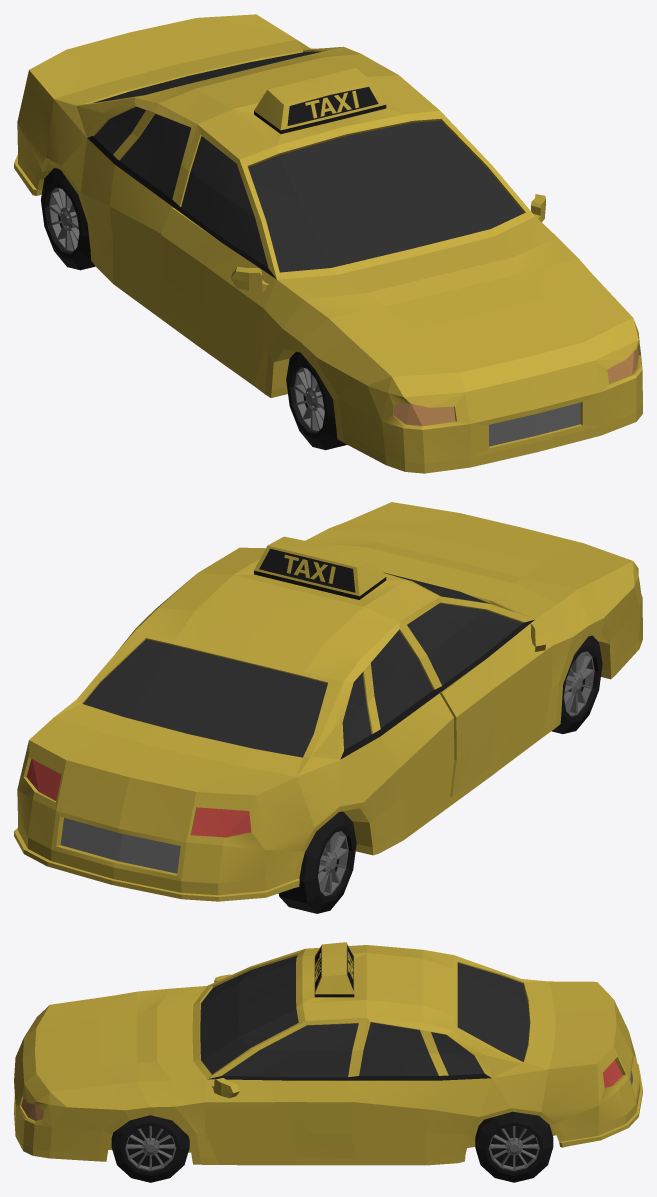
Rendered from Taxi.glb.
3 renders of one model, top to bottom at view 1: azimuth 30°, elevation 25°; view 2: azimuth 150°, elevation 25°; view 3: azimuth 270°, elevation 25°, orthographic. The views are drawn at different scales.
Visible parts, largest first — view 1: Taxi; view 2: Taxi; view 3: Taxi.
Part boxes in pixels (left/top/right/bottom): Taxi: left=14, top=14, right=642, bottom=473; Taxi: left=14, top=502, right=642, bottom=913; Taxi: left=14, top=942, right=642, bottom=1182.
Size of the model in its own units: 1.81 by 1.31 by 4.22.
